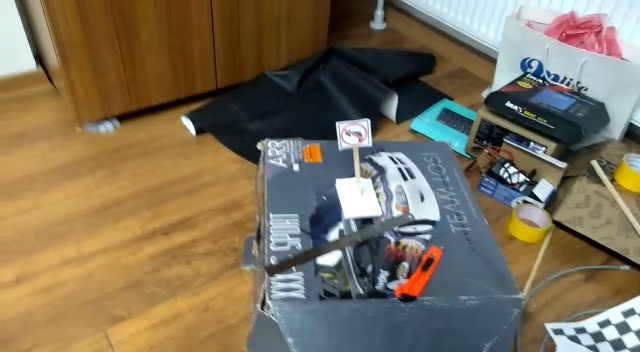sola_donulmez: (340, 119, 367, 146)
